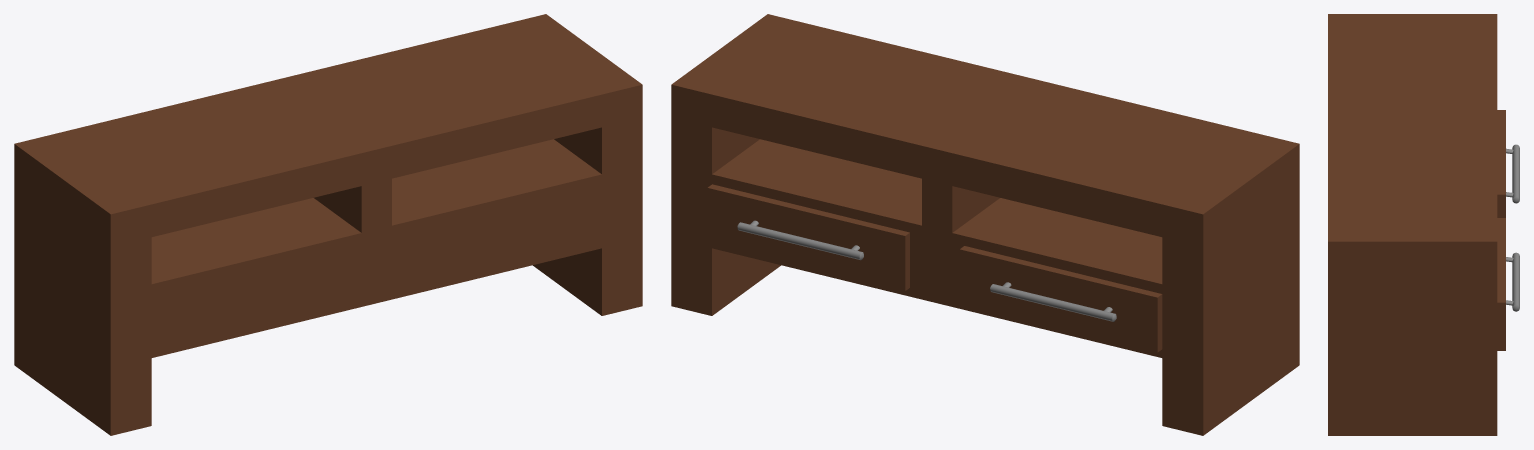
File: MeubleTV_2.fbx
3 renders of one model, left to right at view 1: azimuth 30°, elevation 25°; view 2: azimuth 150°, elevation 25°; view 3: azimuth 270°, elevation 25°, orthographic. The views are drawn at different scales.
Visible parts, largest first — view 1: pCube2453; view 2: pCube2453, pCube2455, pCube2454, pCylinder1565, pCylinder1700; view 3: pCube2453, pCube2454, pCube2455, pCylinder1565, pCylinder1700.
Part boxes in pixels (x1,y1,x2,y2): pCube2453: (14,14,642,435); pCube2453: (671,14,1299,435); pCube2455: (959,246,1162,352); pCube2454: (707,184,909,290); pCylinder1565: (990,284,1116,321); pCylinder1700: (737,222,863,260); pCube2453: (1328,14,1497,435); pCube2454: (1497,218,1505,350); pCube2455: (1497,110,1505,217); pCylinder1565: (1512,144,1519,203); pCylinder1700: (1512,252,1519,311).
Size of the model in its own units: 86.34 by 34.37 by 30.74.
